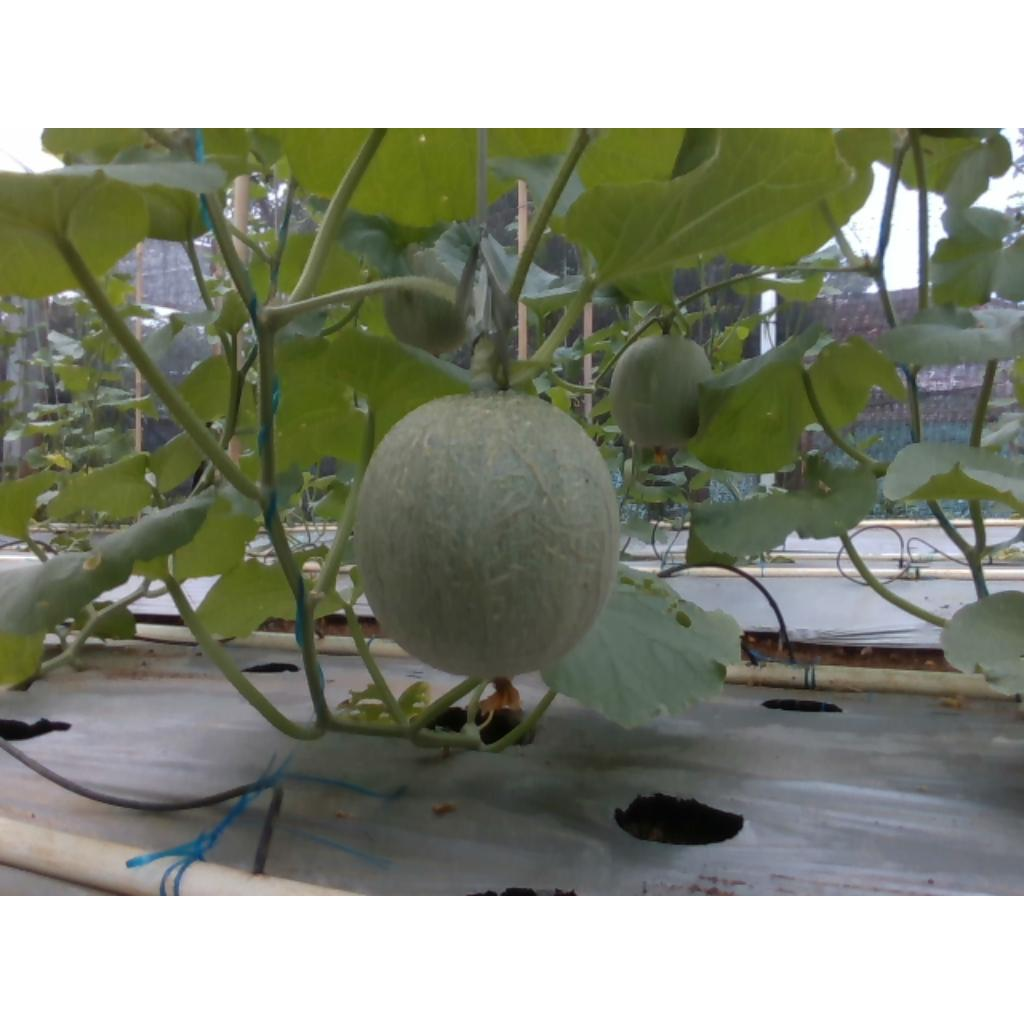melon: (357, 394, 619, 678)
